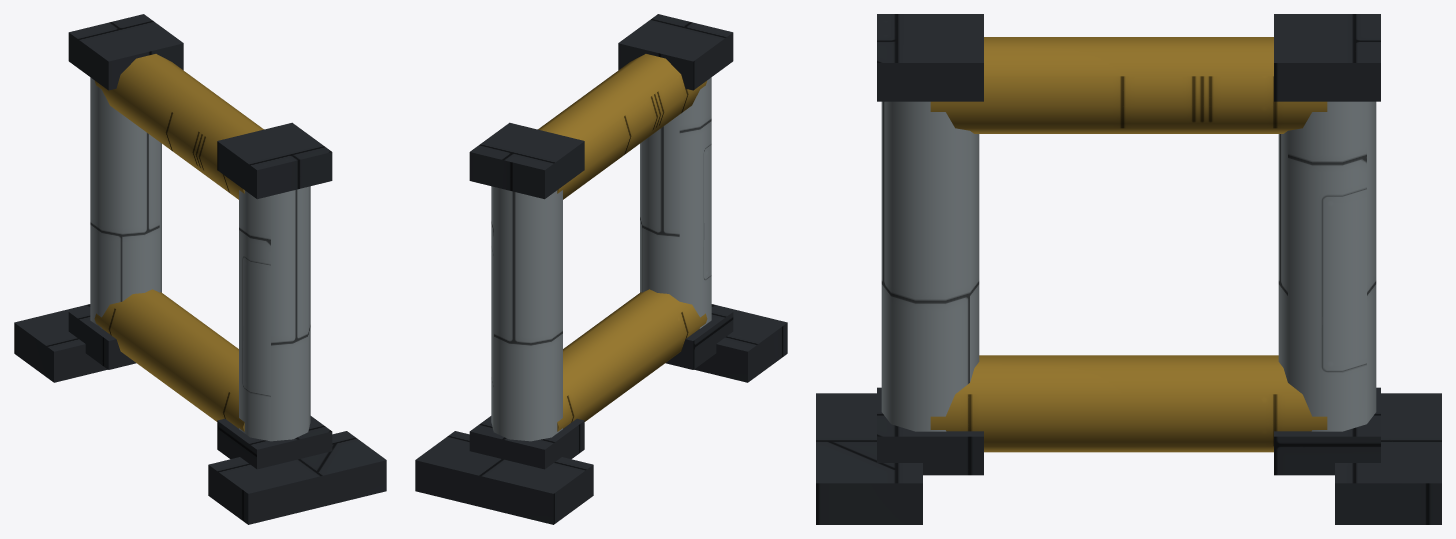
File: cargo-tether-fairlead_lod2.glb
3 renders of one model, left to right at view 1: azimuth 30°, elevation 25°; view 2: azimuth 150°, elevation 25°; view 3: azimuth 270°, elevation 25°, orthographic. The views are drawn at different scales.
Visible parts, largest first — view 1: LOD2_BrushedMetal, LOD2_Armor, LOD2_Livery; view 2: LOD2_BrushedMetal, LOD2_Armor, LOD2_Livery; view 3: LOD2_Livery, LOD2_BrushedMetal, LOD2_Armor.
Boxes of the visible parts, left/top/right/bottom form: LOD2_BrushedMetal: left=90, top=77, right=310, bottom=441; LOD2_Armor: left=14, top=14, right=386, bottom=524; LOD2_Livery: left=94, top=54, right=263, bottom=431; LOD2_BrushedMetal: left=491, top=77, right=711, bottom=441; LOD2_Armor: left=415, top=14, right=787, bottom=524; LOD2_Livery: left=538, top=54, right=707, bottom=431; LOD2_Livery: left=930, top=37, right=1327, bottom=452; LOD2_BrushedMetal: left=881, top=101, right=1376, bottom=431; LOD2_Armor: left=816, top=14, right=1441, bottom=524.
Bounding box in the file's own units: 0.7 × 1.6 × 2.05.
Materials: 3 (3 with a texture image).
